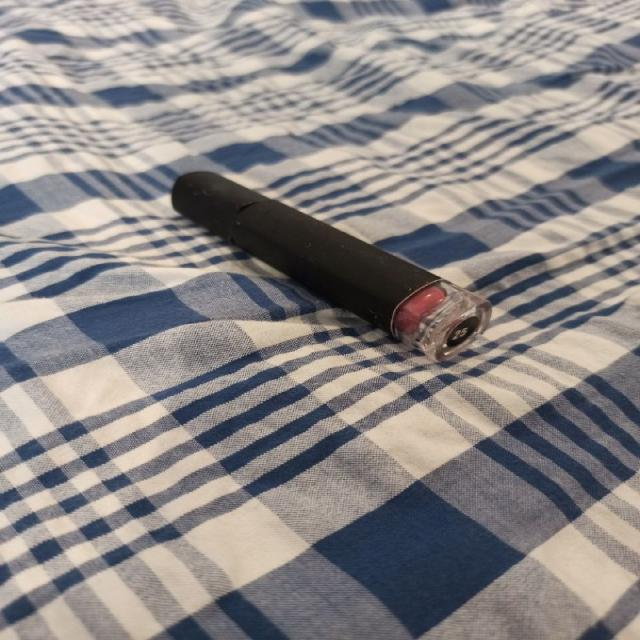lipstick: (169, 170, 492, 363)
